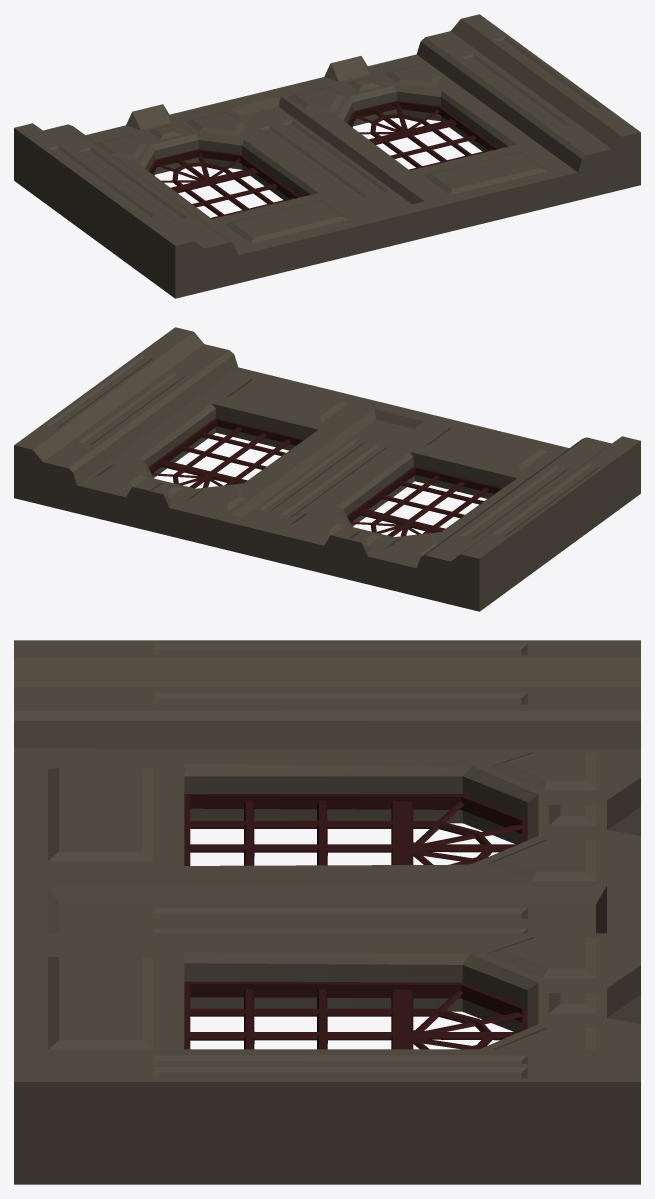
Rendered from P_F_DoubleWCadreGrilleSansW.fbx.
3 renders of one model, top to bottom at view 1: azimuth 30°, elevation 25°; view 2: azimuth 150°, elevation 25°; view 3: azimuth 270°, elevation 25°, orthographic. The views are drawn at different scales.
Visible parts, largest first — view 1: P_F_DoubleWCadreGrilleSansW; view 2: P_F_DoubleWCadreGrilleSansW; view 3: P_F_DoubleWCadreGrilleSansW.
Boxes of the visible parts, bbox=[...] form: P_F_DoubleWCadreGrilleSansW: bbox=[14, 14, 640, 298]; P_F_DoubleWCadreGrilleSansW: bbox=[14, 327, 640, 611]; P_F_DoubleWCadreGrilleSansW: bbox=[14, 640, 640, 1184].
Bounding box in the file's own units: 650 × 70.51 × 390.
